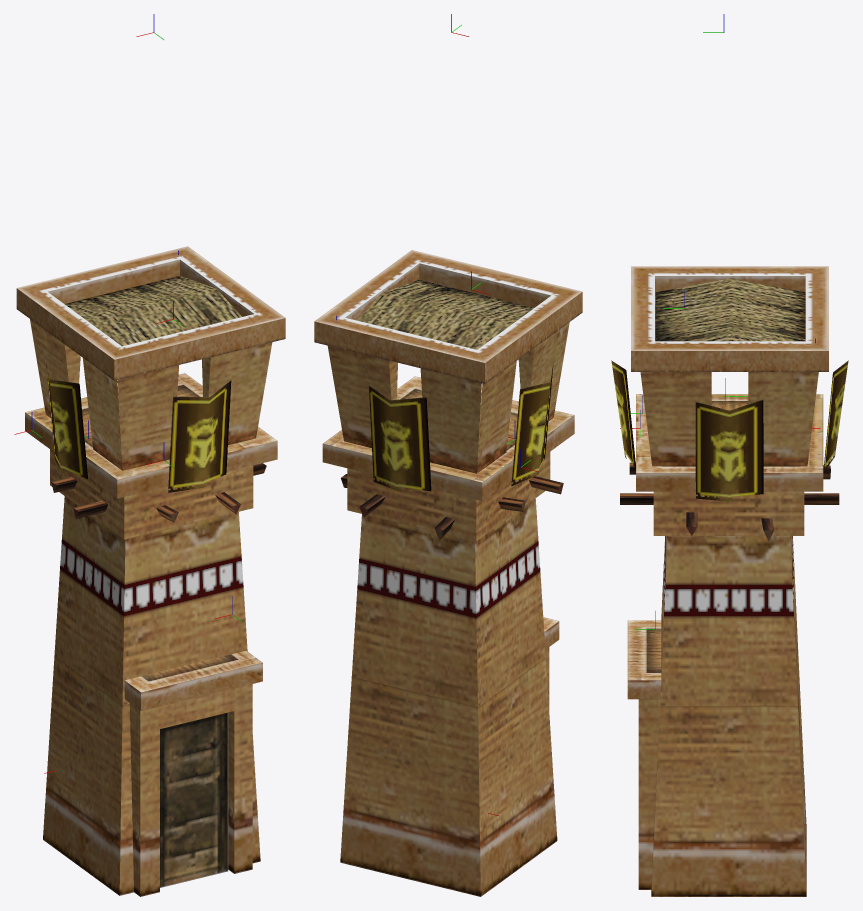
Rendered from egyptian-tower.glb.
3 renders of one model, left to right at view 1: azimuth 30°, elevation 25°; view 2: azimuth 150°, elevation 25°; view 3: azimuth 270°, elevation 25°, orthographic.
Visible parts, largest first — view 1: building e watch age1Model; view 2: building e watch age1Model; view 3: building e watch age1Model.
Boxes of the visible parts, x1,y1,x2,y2 form: building e watch age1Model: (16,246,285,896); building e watch age1Model: (314,250,582,896); building e watch age1Model: (611,266,848,896).
Bounding box in the file's own units: 3.02 × 11.27 × 2.85.
Materials: 5 (4 with a texture image).
